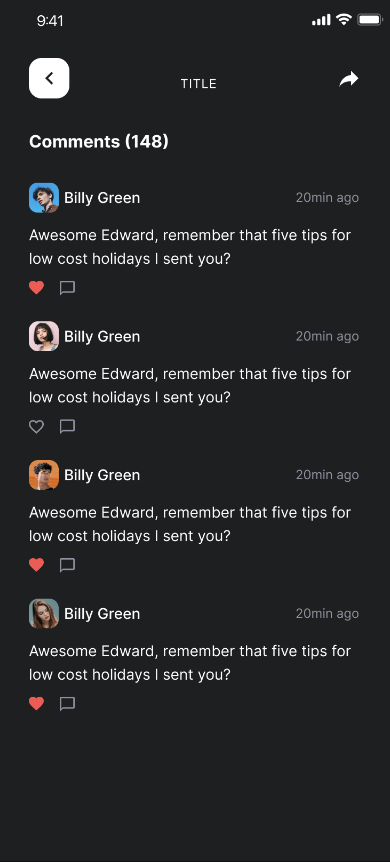AppBar: (1, 31, 390, 103)
